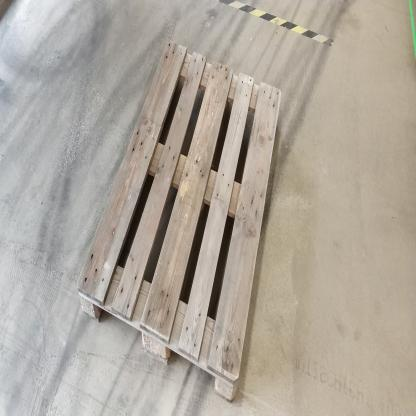BoxFace: (73, 33, 286, 406)
